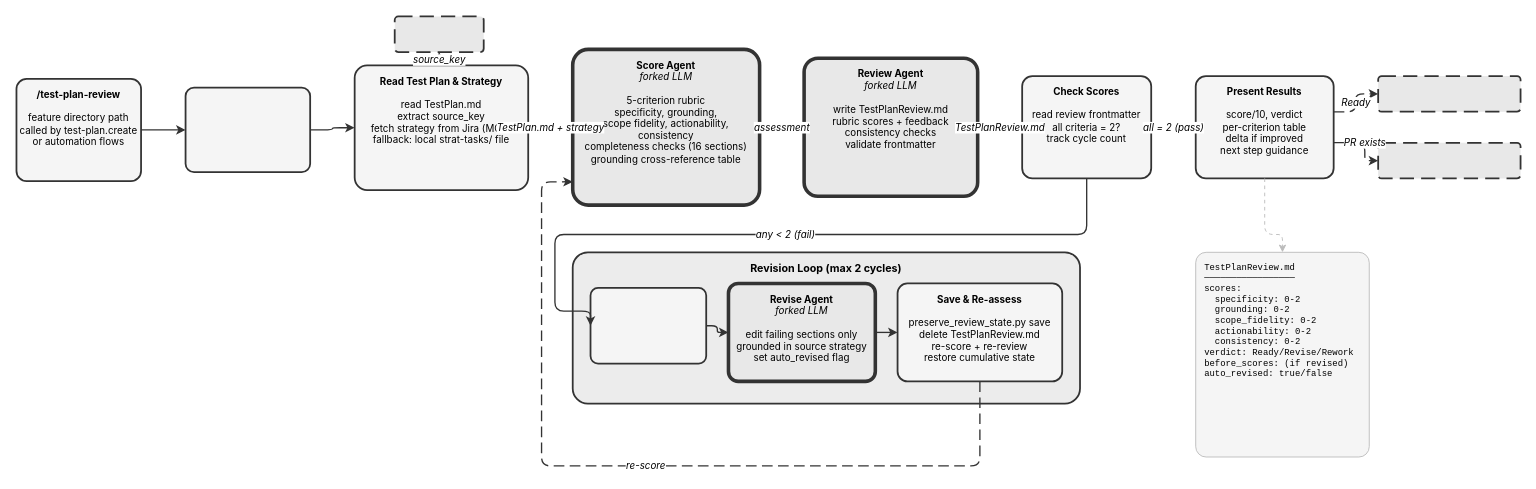
This 1536x489 diagram has some shape labels left out. Here are the shapes that lost their labels. From the top down, the centre of each, then its label:
At (438,34): "Jira".
At (1449,93): "/test-plan-create-cases".
At (247,129): "Install Dependencies uv sync --extra dev abort if install fails".
At (1449,160): "/test-plan-resolve-feedback".
At (648,325): "Filter for Revision filter_for_revision.py skip if no actionable items".
